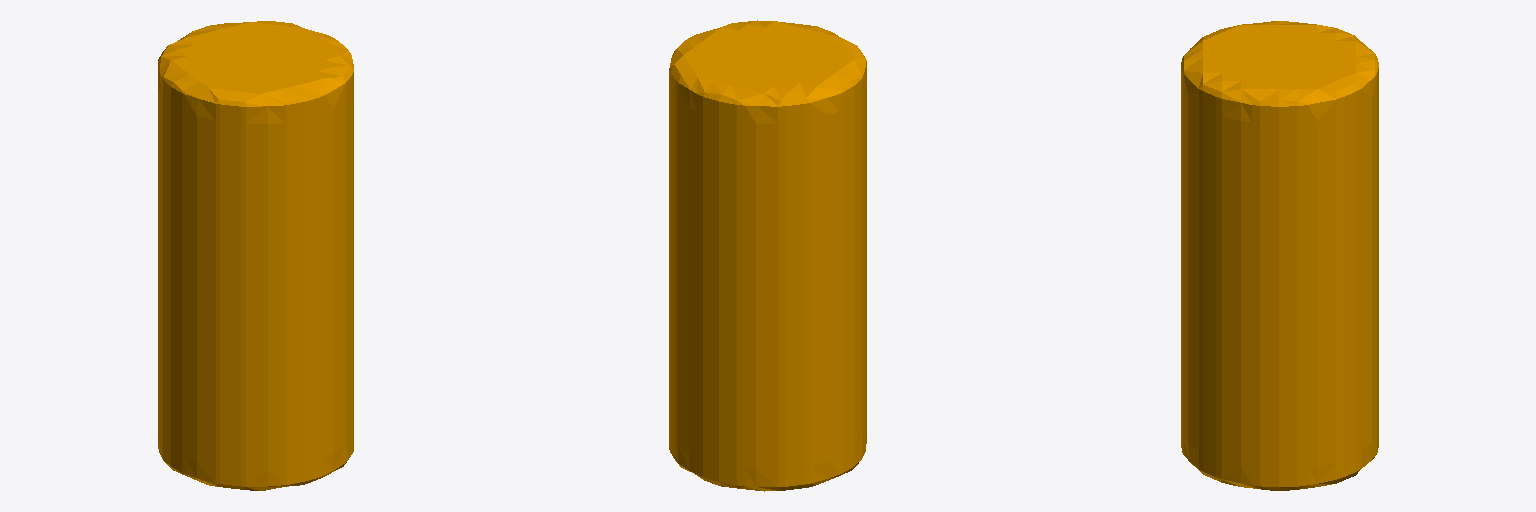
The robot description file, URDF, robot "cylinder_../../meshes/cylinders/cylinder_6.stl":
<?xml version="1.0" encoding="utf-8"?>  <robot name="cylinder_../../meshes/cylinders/cylinder_6.stl">   <link name="cylinder_../../meshes/cylinders/cylinder_6.stl">     <visual>       <geometry>         <mesh filename="../meshes/cylinders/cylinder_6.stl" scale="1 1 1"/>       </geometry>     </visual>     <collision>       <geometry>         <mesh filename="../meshes/cylinders/cylinder_6.stl" scale="1 1 1"/>       </geometry>     </collision>     <inertial>        <origin         xyz="0 0 0"         rpy="0 0 0" />       <mass value="0.24086695892616694"/>       <origin rpy="0 0 0" xyz="0 0 0"/>       <inertia ixx="0.000303063051803247" ixy="-8.289628849527495e-09" ixz="-9.062138543628556e-09" iyy="0.00030306306260154955" iyz="-8.780588587454572e-09" izz="8.030410558772096e-05"/>     </inertial>   </link>  </robot>

--- What the picture shows (computed from the rendered views, not written in the file) ---
The picture shows the robot from 3 angles, left to right: view 1: azimuth 30°, elevation 25°; view 2: azimuth 150°, elevation 25°; view 3: azimuth 270°, elevation 25°; orthographic projection.
Model cylinder_../../meshes/cylinders/cylinder_6.stl with 1 links and 0 joints (none), rooted at cylinder_../../meshes/cylinders/cylinder_6.stl, posed every joint at zero.
Visible links, largest first — view 1: cylinder_../../meshes/cylinders/cylinder_6.stl; view 2: cylinder_../../meshes/cylinders/cylinder_6.stl; view 3: cylinder_../../meshes/cylinders/cylinder_6.stl.
Link boxes in pixels (x1,y1,x2,y2): cylinder_../../meshes/cylinders/cylinder_6.stl: [158, 21, 353, 490]; cylinder_../../meshes/cylinders/cylinder_6.stl: [669, 20, 866, 491]; cylinder_../../meshes/cylinders/cylinder_6.stl: [1181, 21, 1378, 490].
Size in the robot's own frame: 0.052 by 0.052 by 0.1151 metres.
Meshes: 1 distinct files referenced, 1 mesh visuals loaded (1 binary STL).